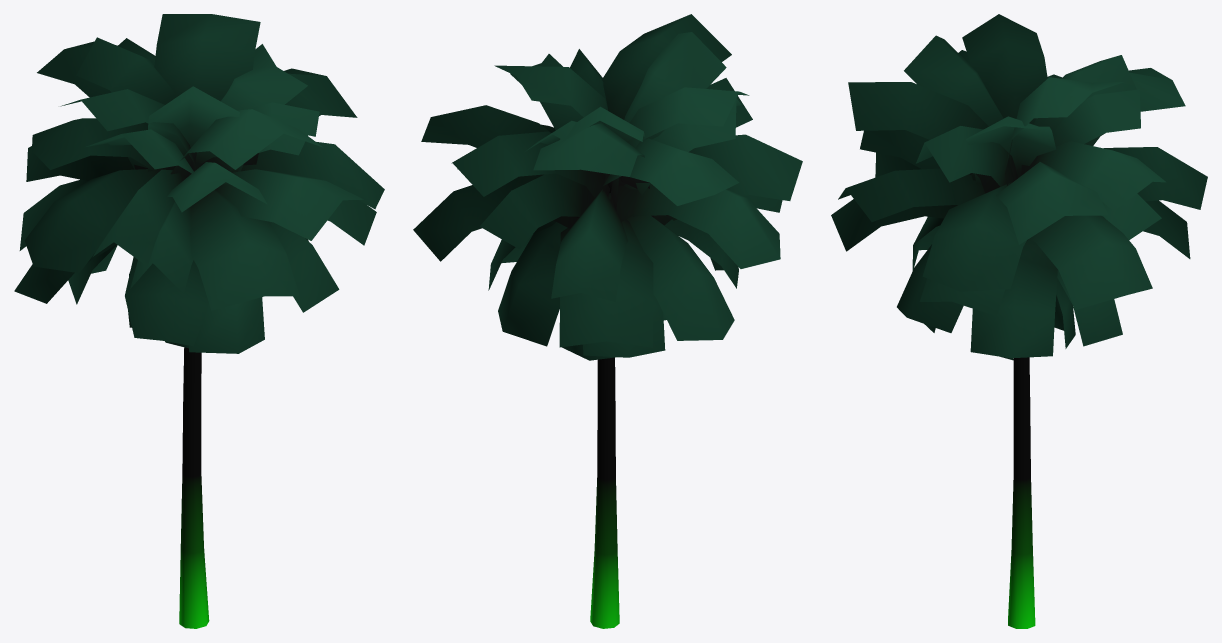
File: SM_DesertCoconutPalm03.fbx
3 renders of one model, left to right at view 1: azimuth 30°, elevation 25°; view 2: azimuth 150°, elevation 25°; view 3: azimuth 270°, elevation 25°, orthographic. The views are drawn at different scales.
Parts seen in each view (by area): view 1: SM_DesertCoconutPalm03_LOD0; view 2: SM_DesertCoconutPalm03_LOD0; view 3: SM_DesertCoconutPalm03_LOD0.
Part boxes in pixels (box(x1,y1,x2,y2)): SM_DesertCoconutPalm03_LOD0: box(14, 14, 384, 628); SM_DesertCoconutPalm03_LOD0: box(413, 14, 802, 628); SM_DesertCoconutPalm03_LOD0: box(831, 14, 1207, 628).
Size of the model in its own units: 709 by 1185 by 714.
